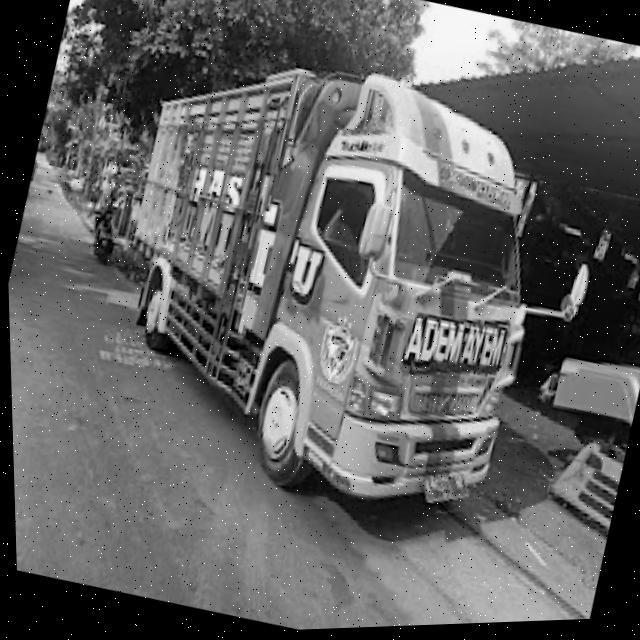truck: (71, 15, 631, 552)
